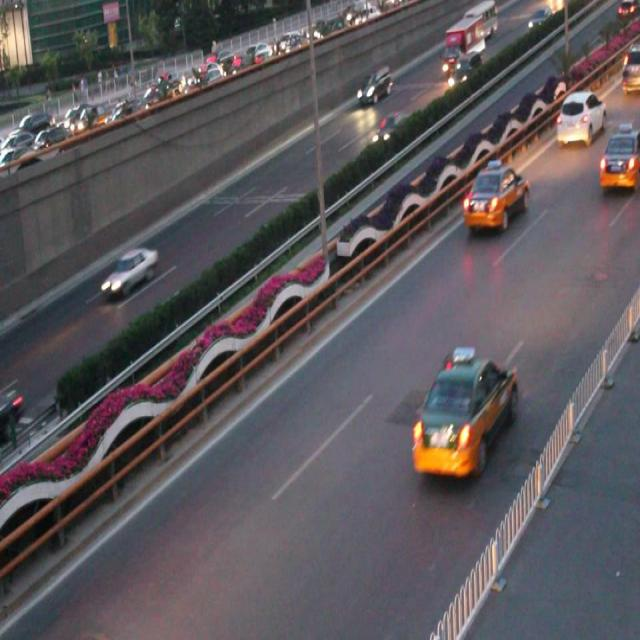car: (412, 347, 517, 478), (464, 160, 529, 230), (554, 91, 607, 145), (101, 248, 157, 298), (597, 129, 640, 191), (370, 112, 409, 148), (1, 382, 24, 442)
truck: (356, 69, 392, 106)
